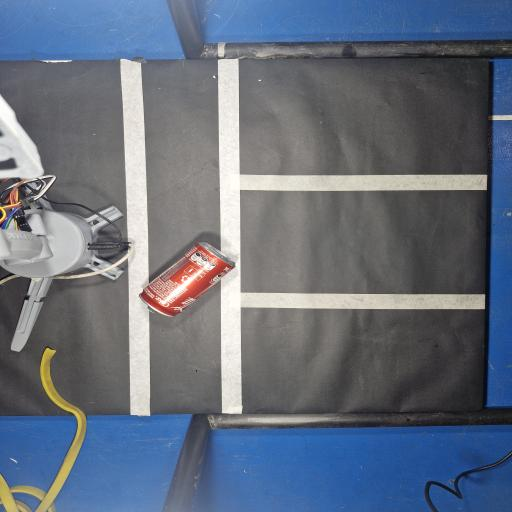lata: (139, 242, 235, 316)
